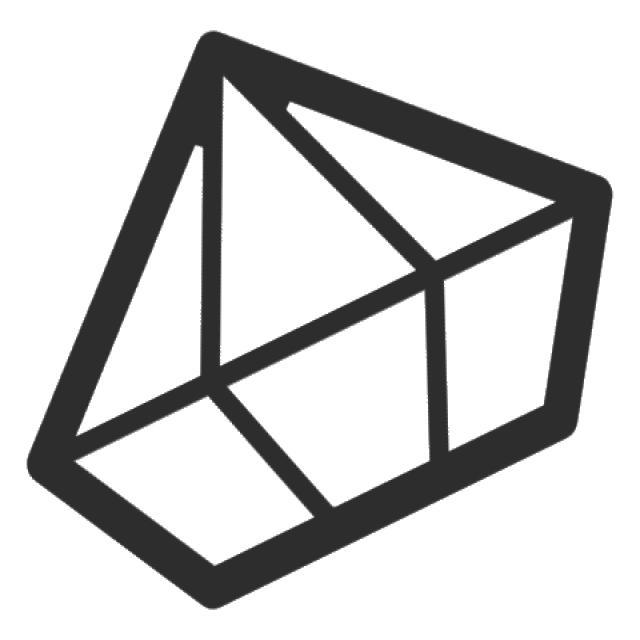diamond: (16, 18, 623, 625)
